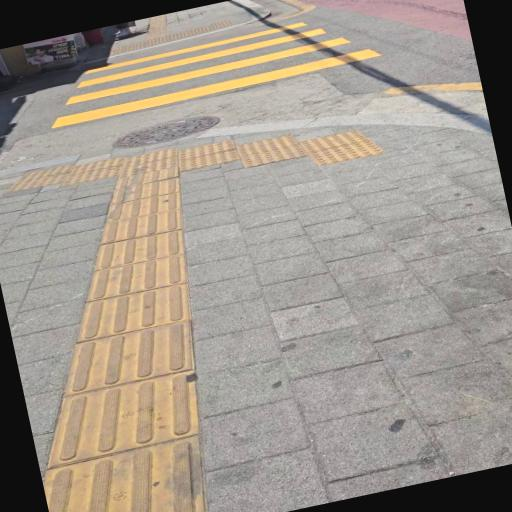yellow-crosswalk: (18, 0, 403, 138)
